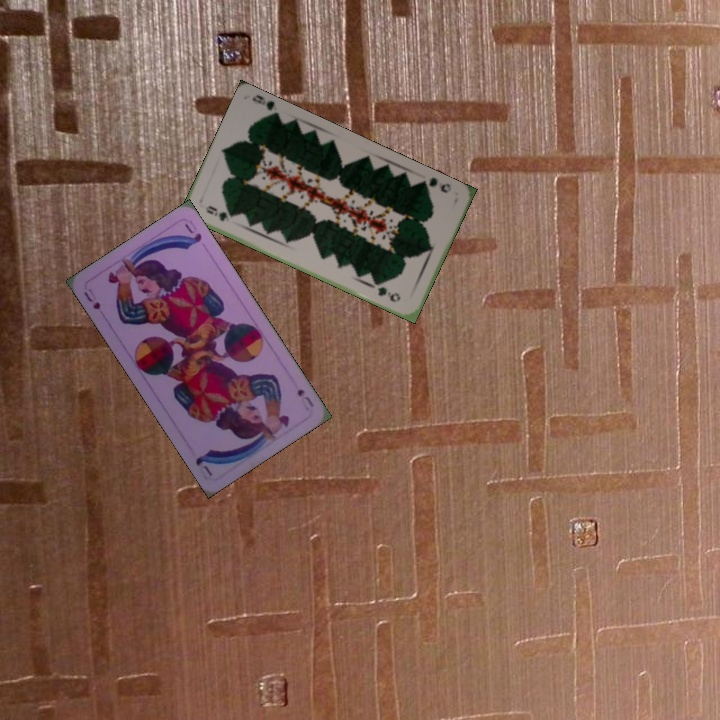G9: (418, 173, 454, 196), (201, 202, 235, 224)
SU: (293, 385, 316, 413), (80, 284, 103, 312)
